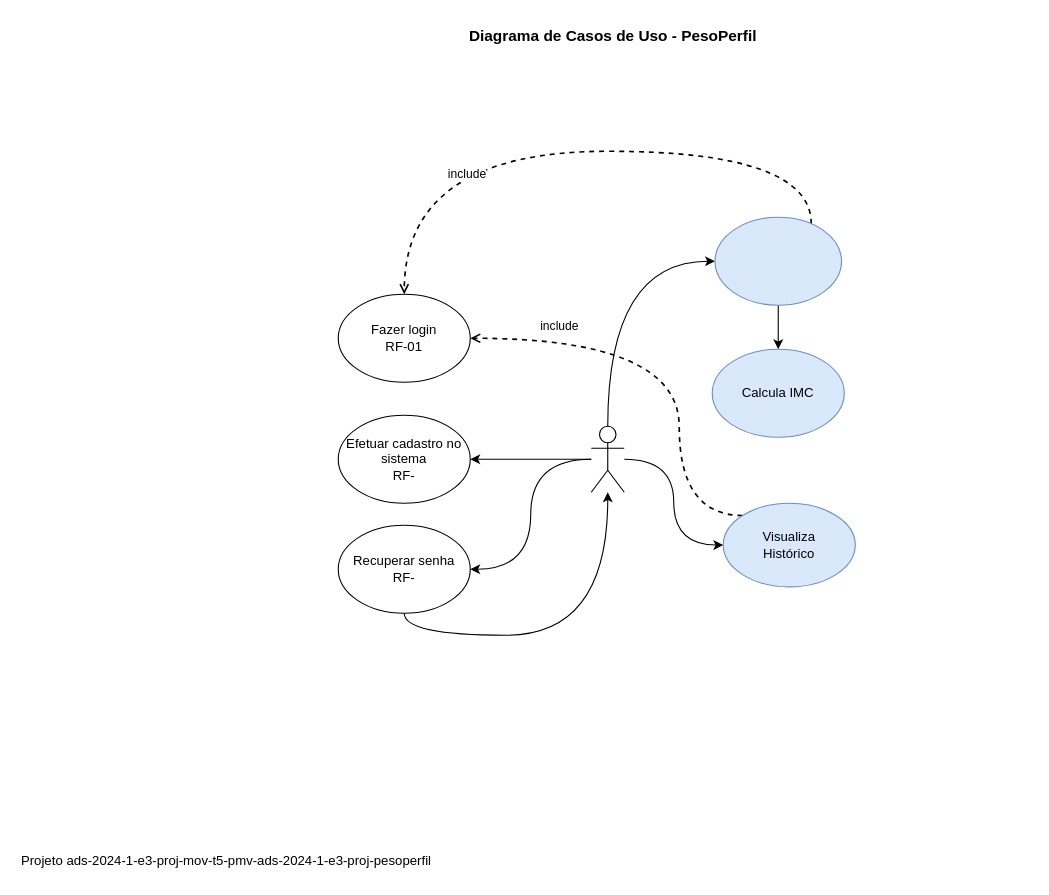
This 1049x895 diagram has some shape labels left out. Each missing label, with the centre of its shape:
"Insere Idade, Sexo Peso (kg) Altura (cm)" goes at pixel 778 260.
"Usuário" goes at pixel 607 458.
